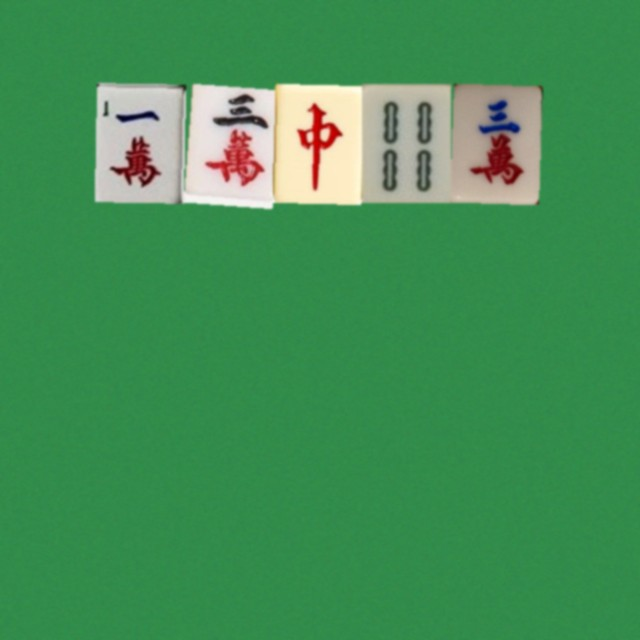tile: (94, 83, 183, 202), (183, 83, 272, 202), (272, 83, 361, 202), (361, 83, 450, 202), (450, 83, 539, 202)
